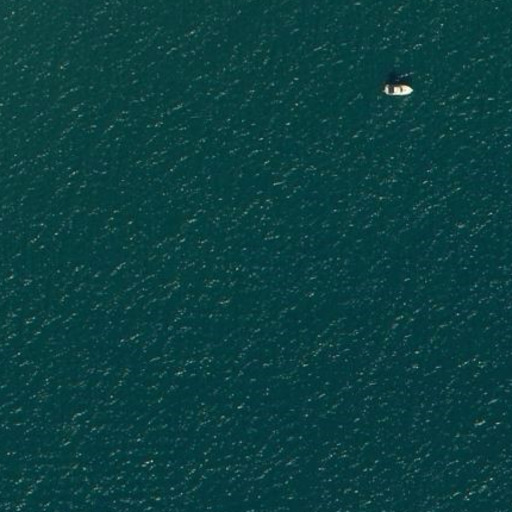ship: (379, 80, 415, 98)
